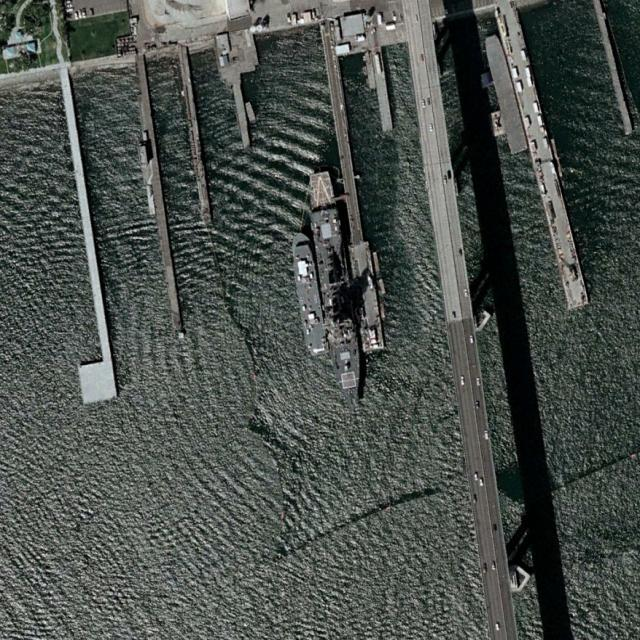Destroyer: (305, 168, 367, 413)
Other Ship: (287, 229, 327, 358)
